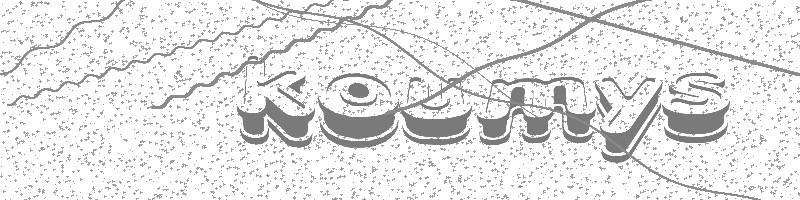k: (230, 52, 322, 155)
m: (477, 76, 597, 146)
o: (316, 66, 400, 156)
s: (661, 64, 734, 146)
u: (398, 73, 474, 149)
y: (594, 75, 667, 163)
